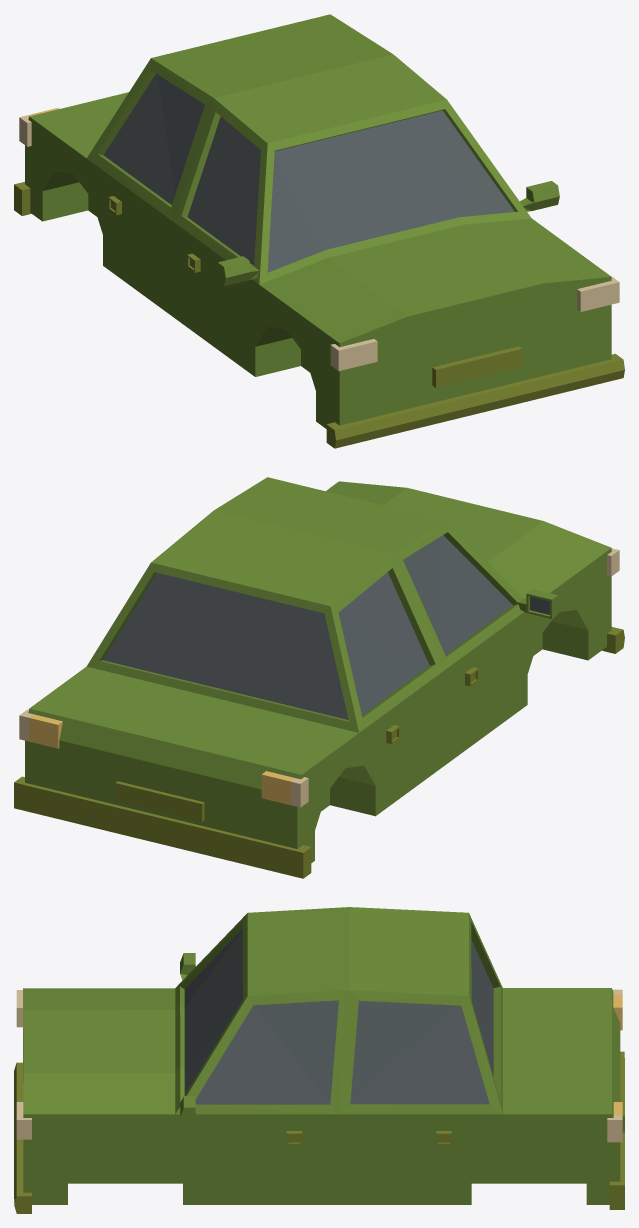
File: Car_01.fbx
The picture shows the model from 3 angles, top to bottom: view 1: azimuth 30°, elevation 25°; view 2: azimuth 150°, elevation 25°; view 3: azimuth 270°, elevation 25°; orthographic projection. The views are drawn at different scales.
Parts seen in each view (by area): view 1: Car_01; view 2: Car_01; view 3: Car_01.
Part boxes in pixels (x1,y1,x2,y2): Car_01: [14, 14, 624, 448]; Car_01: [14, 477, 624, 878]; Car_01: [14, 907, 624, 1213].
Bounding box in the file's own units: 1.97 × 1.17 × 3.28.
